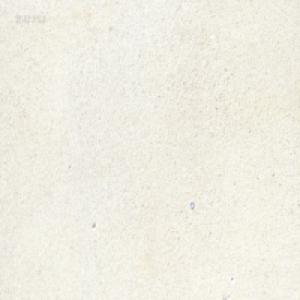Washer: (189, 200, 194, 210)
